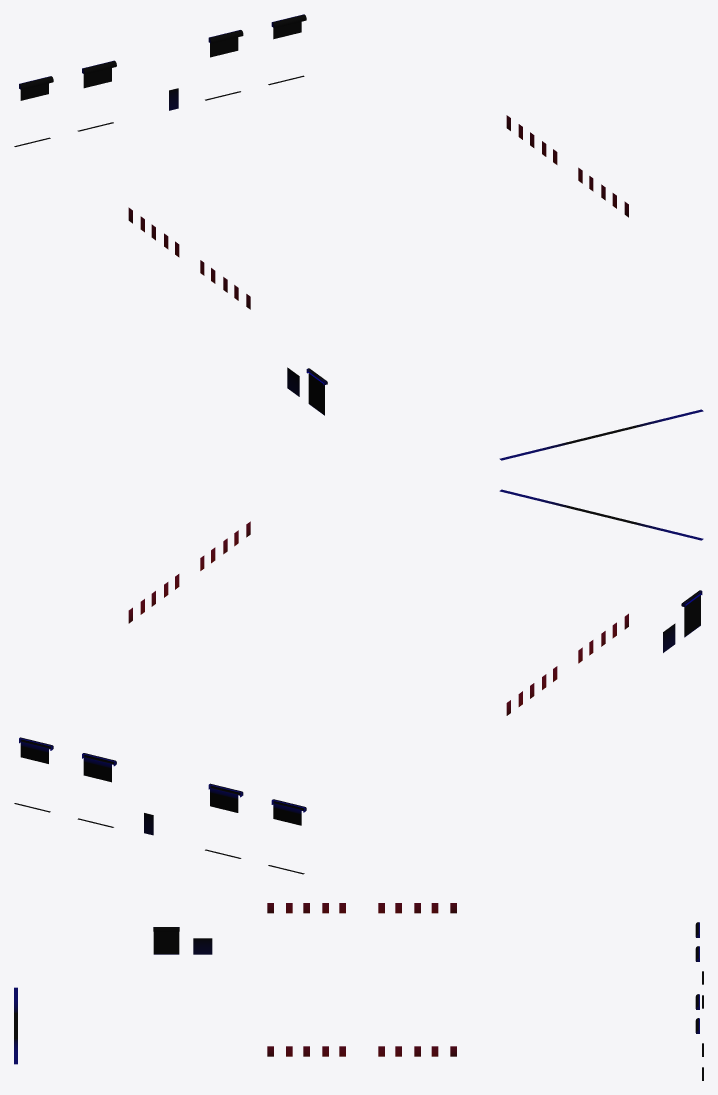
File: Hanger_Doors.fbx
3 views of the same model, one above another, from view 1: azimuth 30°, elevation 25°; view 2: azimuth 150°, elevation 25°; view 3: azimuth 270°, elevation 25° (orthographic). The views are drawn at different scales.
Parts seen in each view (by area): view 1: Hanger_Doors; view 2: Hanger_Doors; view 3: Hanger_Doors.
Boxes of the visible parts, x1,y1,x2,y2 form: Hanger_Doors: [14, 14, 703, 460]; Hanger_Doors: [14, 489, 703, 874]; Hanger_Doors: [14, 903, 703, 1080].
Bounding box in the file's own units: 3995 × 666 × 8117.
